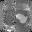people: (16, 13, 28, 24)
